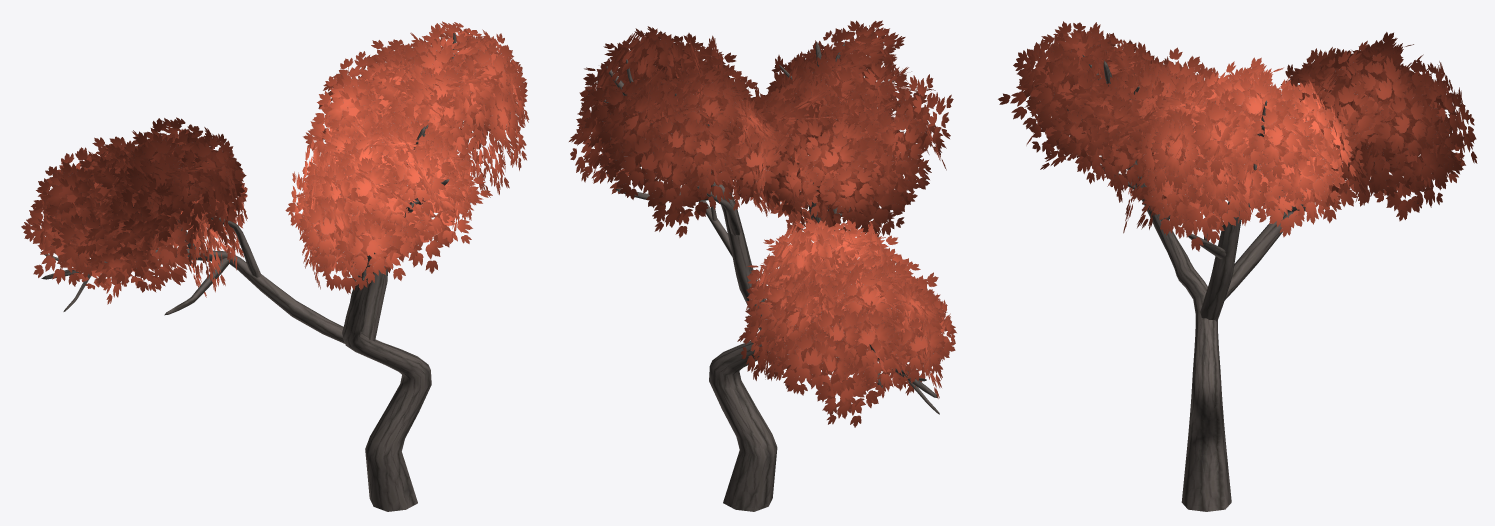
The model's file is quaternius-ultimate-stylized-nature-maple-tree-2.glb.
3 renders of one model, left to right at view 1: azimuth 30°, elevation 25°; view 2: azimuth 150°, elevation 25°; view 3: azimuth 270°, elevation 25°, orthographic. The views are drawn at different scales.
Parts seen in each view (by area): view 1: MapleTree_2; view 2: MapleTree_2; view 3: MapleTree_2.
Part boxes in pixels (<box>): MapleTree_2: <box>21,21,529,511</box>; MapleTree_2: <box>569,20,956,511</box>; MapleTree_2: <box>998,21,1477,511</box>.
Size of the model in its own units: 6.7 by 6.71 by 6.24.
2 materials, 2 textured.
